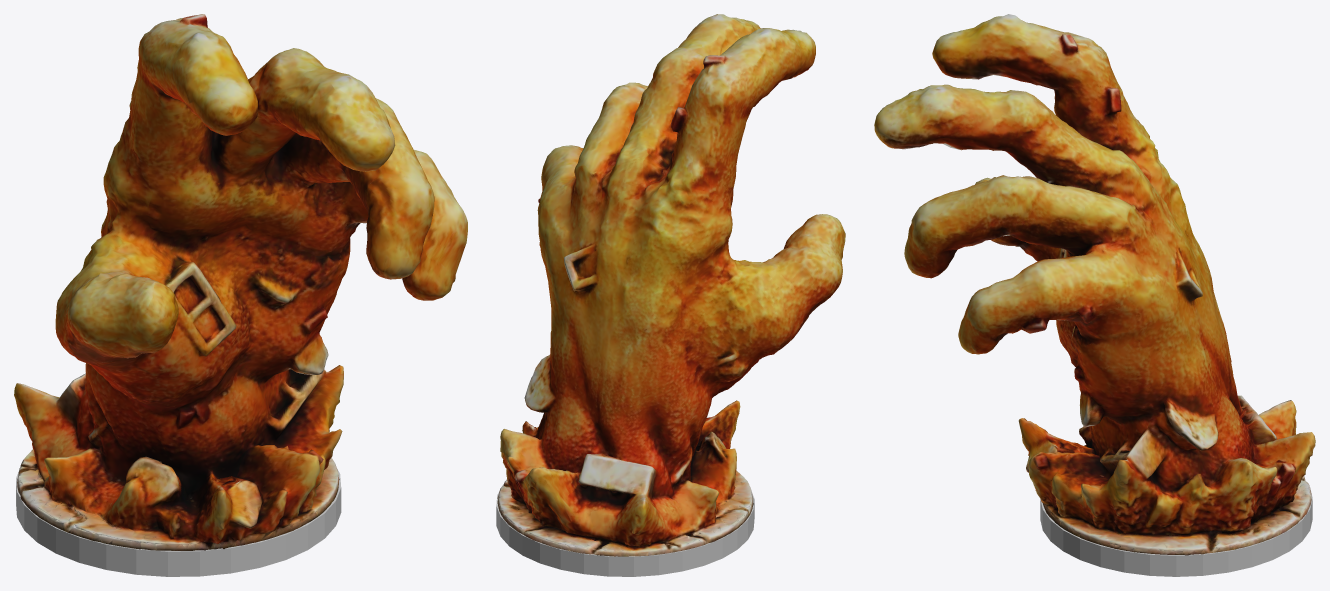
3 views of the same model, side by side, from view 1: azimuth 30°, elevation 25°; view 2: azimuth 150°, elevation 25°; view 3: azimuth 270°, elevation 25° (orthographic). The views are drawn at different scales.
Parts seen in each view (by area): view 1: default (×2); view 2: default (×2); view 3: default (×2).
Boxes of the visible parts, x1,y1,x2,y2 form: default (×2): (14,14,467,576); default (×2): (496,14,845,576); default (×2): (874,14,1315,576).
Size of the model in its own units: 1.79 by 2.63 by 2.23.
2 materials, 1 textured.
